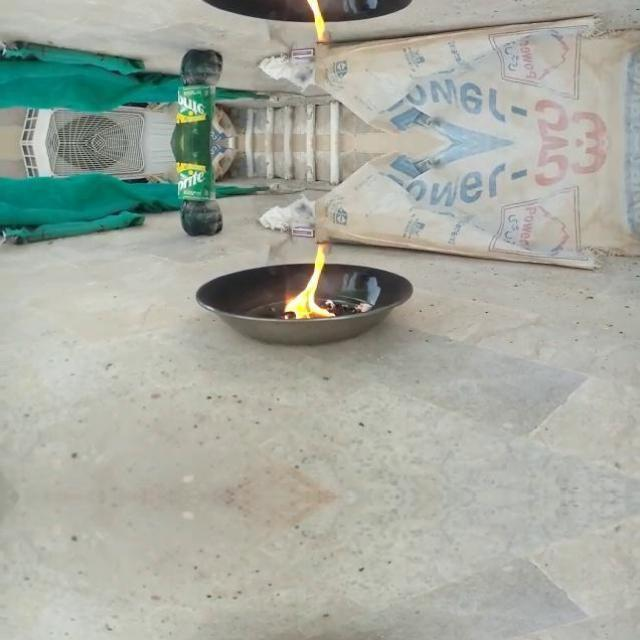smoke: (278, 240, 336, 318), (278, 0, 335, 44)
